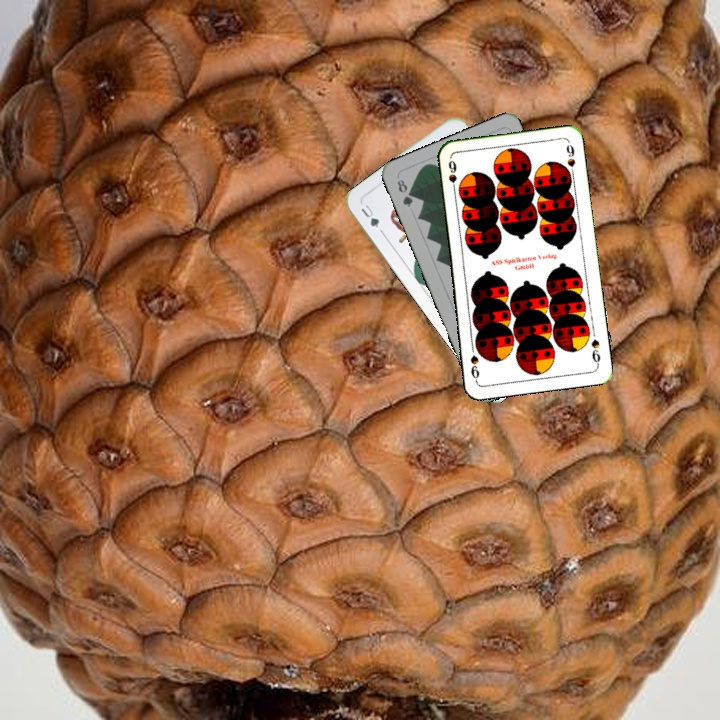G8: (393, 175, 416, 210)
GU: (357, 200, 382, 231)
S9: (444, 156, 459, 196), (587, 335, 603, 368)
